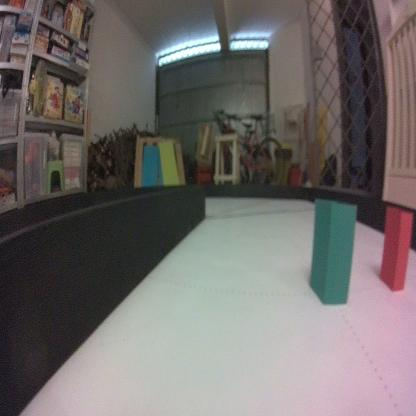green: (307, 196, 358, 311)
red: (379, 206, 412, 294)
